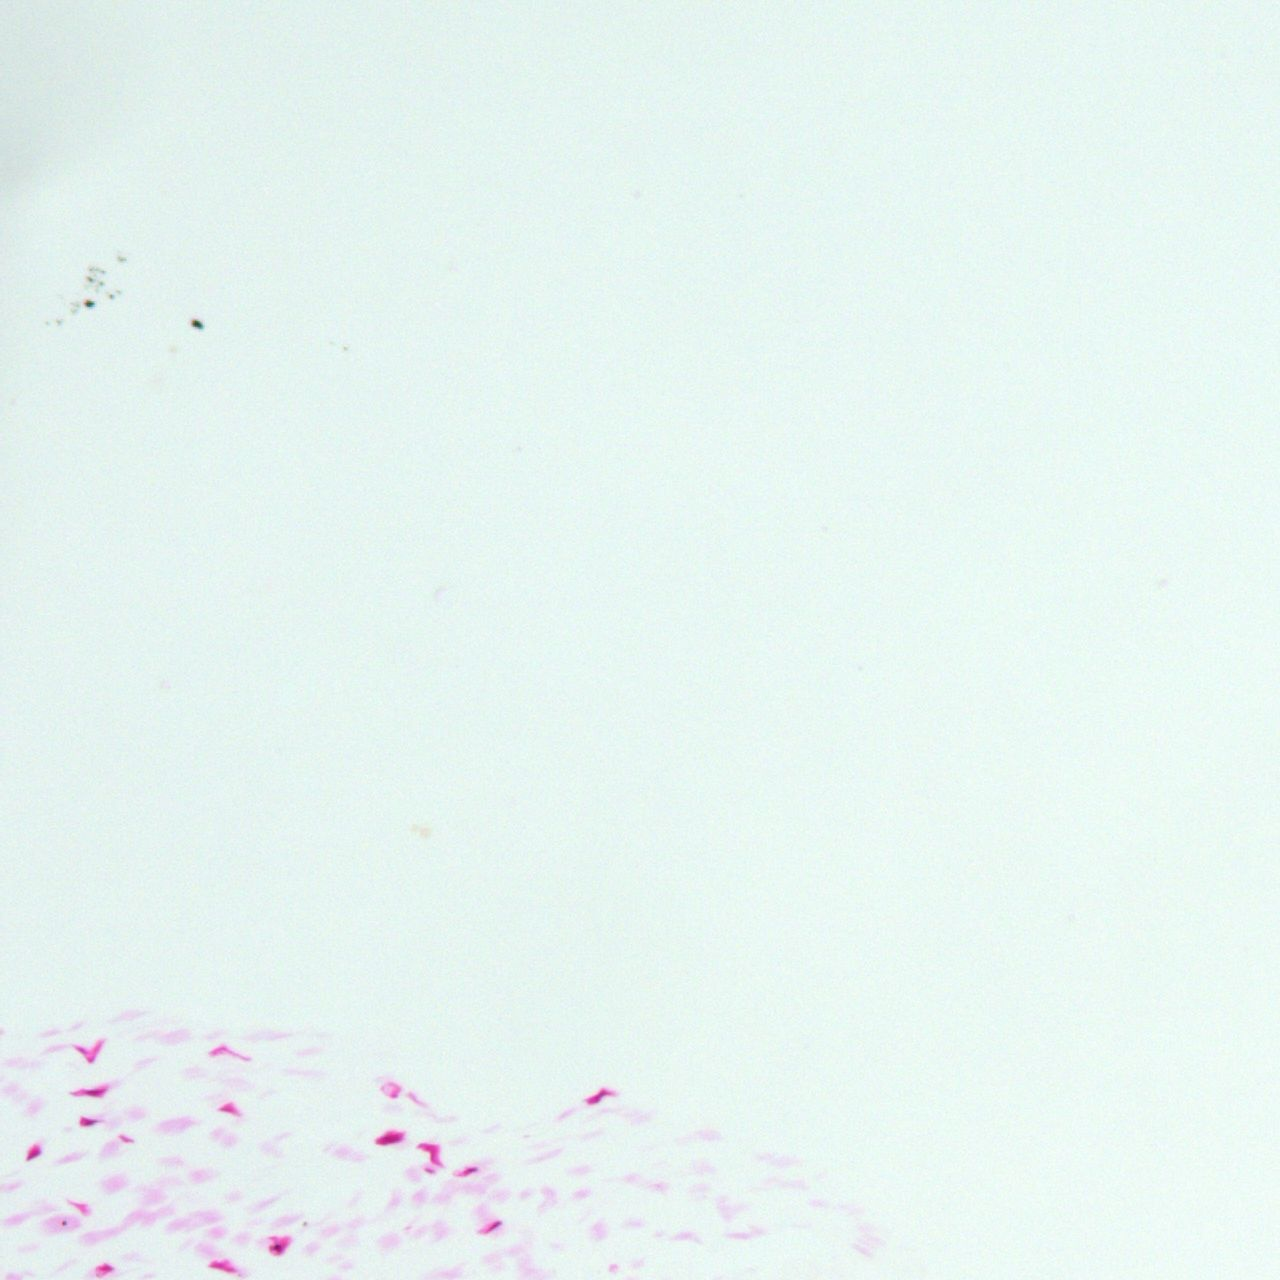dust: (189, 318, 202, 329), (68, 300, 79, 313), (88, 267, 105, 273), (84, 299, 95, 307), (116, 256, 127, 263), (55, 318, 64, 325), (86, 275, 93, 282), (61, 1220, 69, 1226), (272, 1244, 280, 1250), (108, 293, 114, 300), (114, 290, 121, 295), (98, 281, 105, 286), (301, 1220, 307, 1225)
nucleus-FG: (418, 1135, 447, 1167), (585, 1084, 614, 1107), (374, 1130, 404, 1146), (86, 1039, 104, 1064), (70, 1085, 105, 1098), (69, 1194, 90, 1216), (483, 1218, 504, 1235), (209, 1260, 234, 1274), (457, 1165, 477, 1179), (72, 1042, 89, 1056), (25, 1148, 41, 1160), (79, 1117, 101, 1126), (209, 1044, 226, 1056), (118, 1133, 134, 1144), (390, 1085, 402, 1098), (218, 1107, 237, 1114), (97, 1264, 113, 1272)
